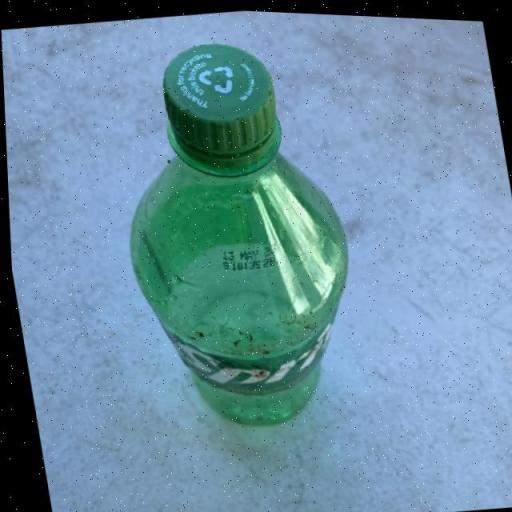plastic: (94, 23, 374, 441)
